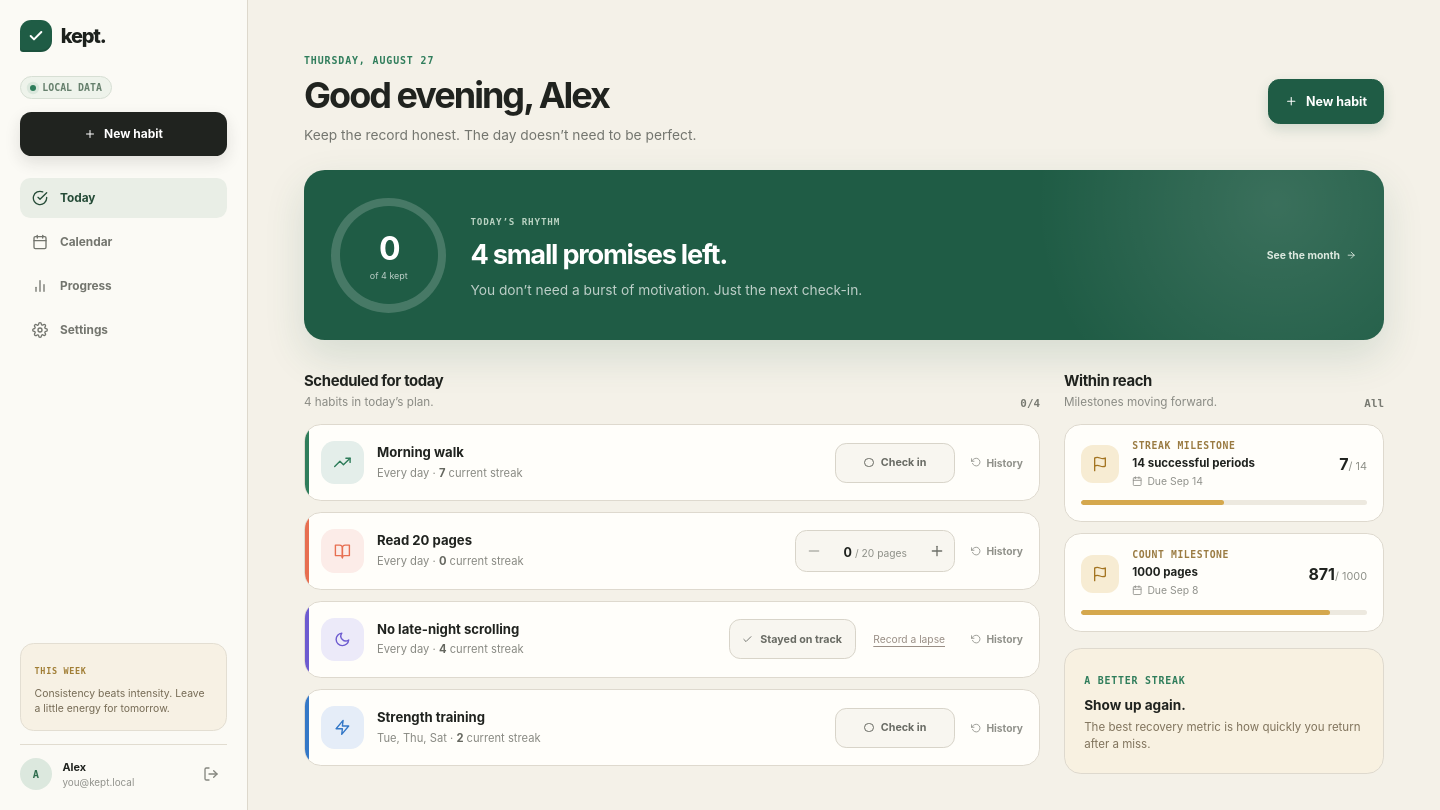
Kept app shell › uses a supportive custom notification for a recorded lapse
The width and height of the screenshot is (1440, 810).
Click the button "Record a lapse": (909, 639) [863, 619, 955, 659]
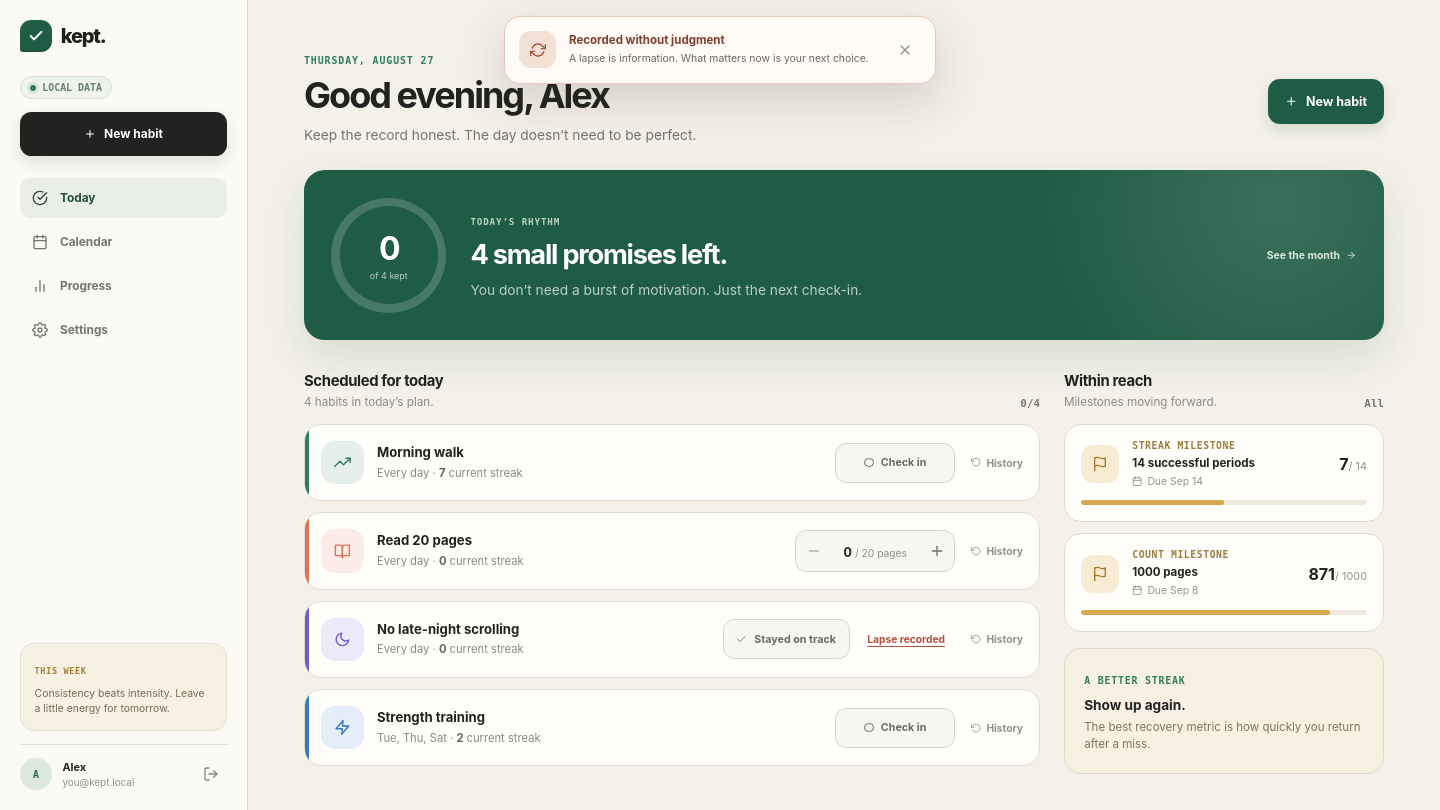
Check: the text "Recorded without judgment" is shown, box [569, 33, 725, 47]
Check: the text "A lapse is information. What matters now is your next choice." is shown, box [569, 51, 877, 66]
Check: the button named "Dismiss notification" is shown, box [890, 35, 921, 65]
